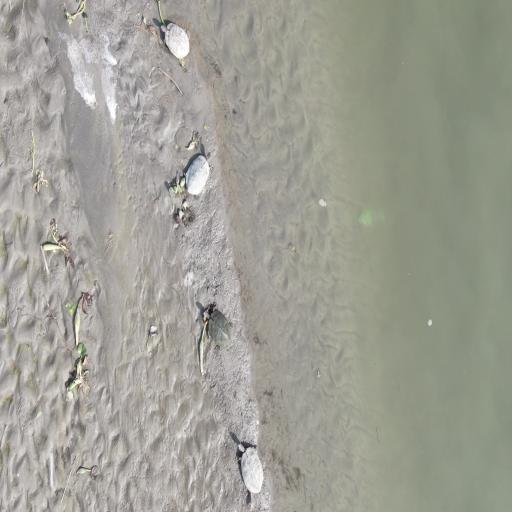turtle: (237, 439, 268, 509), (160, 21, 192, 71), (202, 306, 236, 350), (186, 150, 211, 194)
